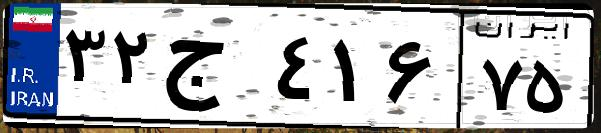1: (330, 28, 385, 110)
2: (110, 28, 158, 98)
3: (57, 26, 110, 100)
4: (270, 28, 330, 110)
5: (525, 38, 570, 115)
6: (385, 28, 445, 110)
7: (475, 38, 525, 113)
ج: (158, 20, 270, 120)
